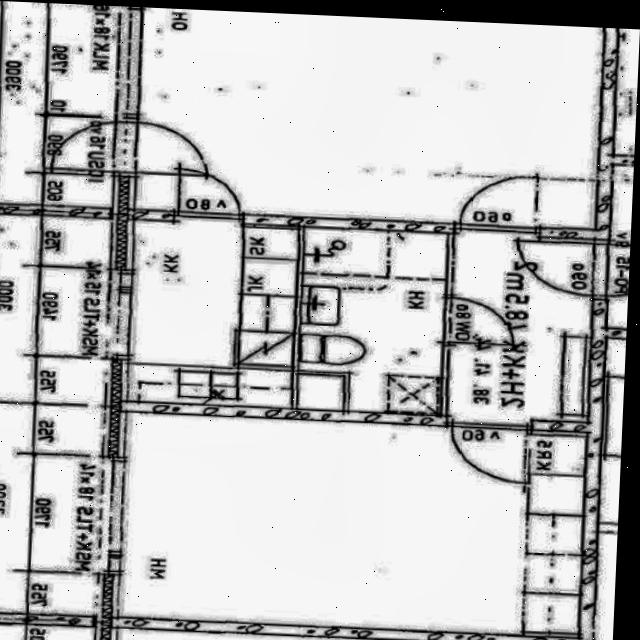room: (118, 411, 587, 637), (134, 6, 604, 227), (128, 220, 298, 407), (297, 227, 447, 414), (448, 233, 594, 421)
